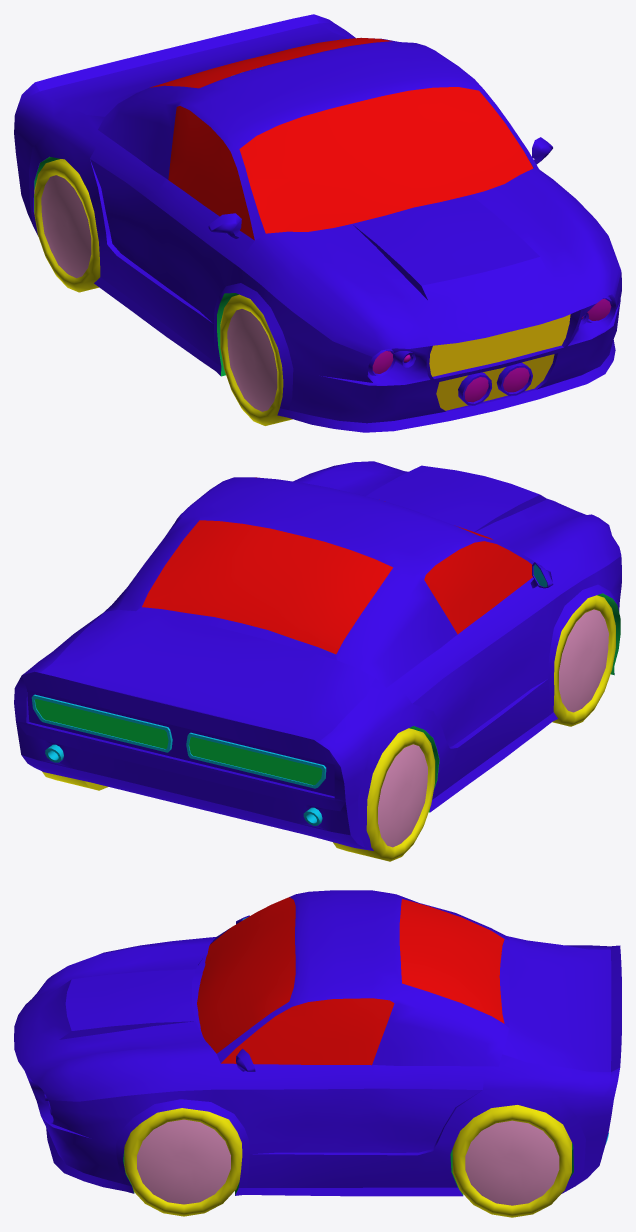
Rendered from 01_SteinMamba_ColorCoded.fbx.
3 renders of one model, top to bottom at view 1: azimuth 30°, elevation 25°; view 2: azimuth 150°, elevation 25°; view 3: azimuth 270°, elevation 25°, orthographic. The views are drawn at different scales.
Parts seen in each view (by area): view 1: Body, tireBackR, tireFrontR; view 2: Body, tireBackR, tireFrontR; view 3: Body, tireBackL, tireFrontL.
Part boxes in pixels (<box>): Body: <box>14,14,621,432</box>; tireBackR: <box>34,159,100,292</box>; tireFrontR: <box>220,294,292,425</box>; Body: <box>14,461,621,850</box>; tireBackR: <box>333,728,435,861</box>; tireFrontR: <box>552,595,615,726</box>; Body: <box>14,890,621,1196</box>; tireBackL: <box>452,1105,571,1217</box>; tireFrontL: <box>124,1108,242,1216</box>.
Bounding box in the file's own units: 66.51 × 114 × 44.14.
